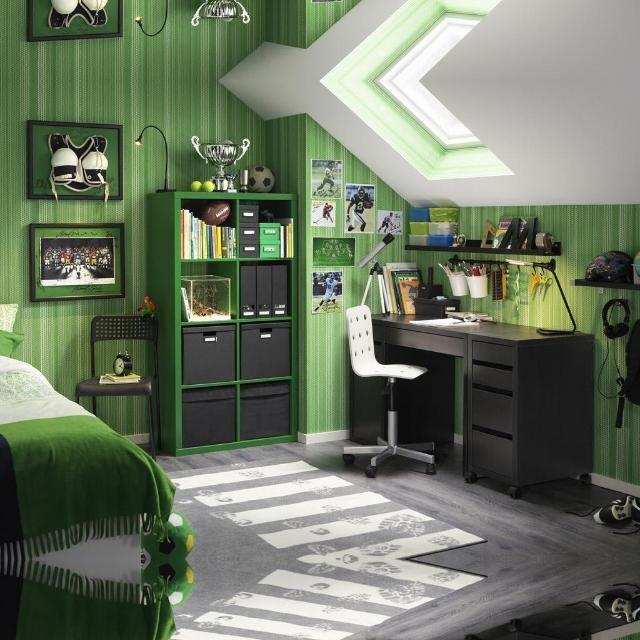obstacle: (0, 360, 188, 558), (468, 314, 606, 492), (338, 303, 438, 482), (0, 558, 188, 640), (468, 626, 606, 640), (337, 636, 438, 640)
